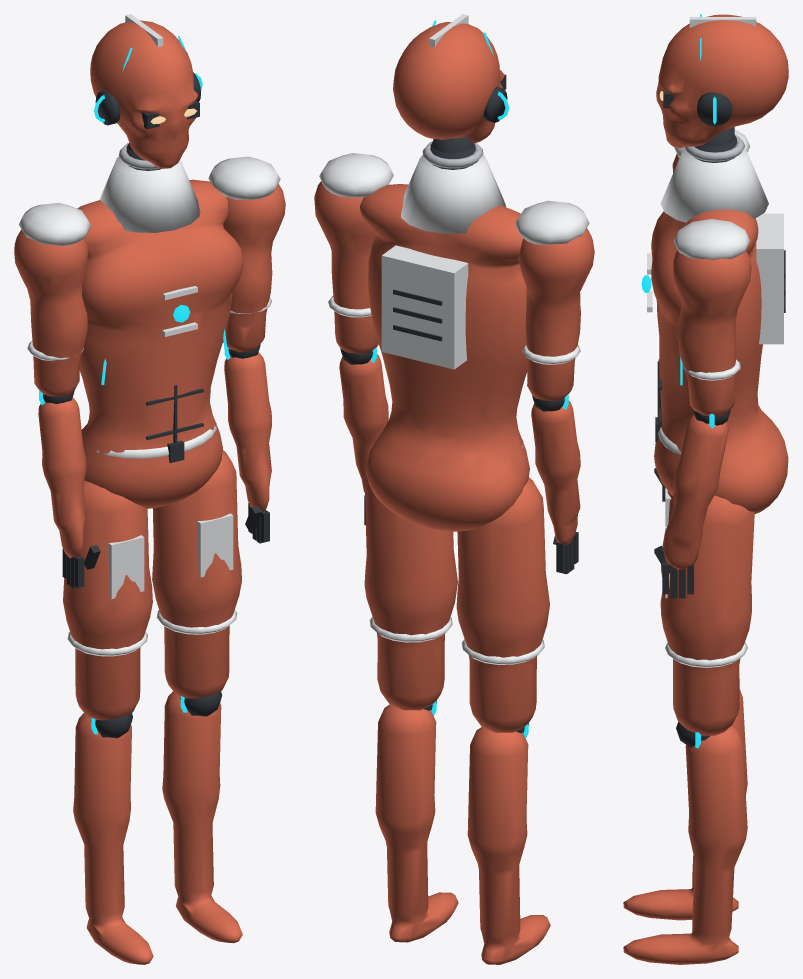
File: Char_Android_A.gltf
3 views of the same model, side by side, from view 1: azimuth 30°, elevation 25°; view 2: azimuth 150°, elevation 25°; view 3: azimuth 270°, elevation 25° (orthographic). The views are drawn at different scales.
Parts seen in each view (by area): view 1: Char_Android_A, AndroidA_Leg_L, AndroidA_Leg_R, AndroidA_Head, AndroidA_Shin_L, AndroidA_Shin_R, AndroidA_Arm_R, AndroidA_Arm_L, AndroidA_Forearm_R, AndroidA_Forearm_L; view 2: Char_Android_A, AndroidA_Leg_R, AndroidA_Leg_L, AndroidA_Shin_L, AndroidA_Shin_R, AndroidA_Head, AndroidA_Arm_R, AndroidA_Arm_L, AndroidA_Forearm_R, AndroidA_Forearm_L; view 3: Char_Android_A, AndroidA_Leg_L, AndroidA_Head, AndroidA_Shin_L, AndroidA_Arm_L, AndroidA_Forearm_L, AndroidA_Shin_R.
Part boxes in pixels (x1,y1,x2,y2): Char_Android_A: [77, 143, 243, 508]; AndroidA_Leg_L: [152, 450, 241, 698]; AndroidA_Leg_R: [63, 481, 152, 720]; AndroidA_Head: [90, 14, 202, 168]; AndroidA_Shin_L: [162, 691, 242, 943]; AndroidA_Shin_R: [73, 712, 153, 964]; AndroidA_Arm_R: [14, 202, 90, 396]; AndroidA_Arm_L: [208, 156, 285, 352]; AndroidA_Forearm_R: [38, 390, 100, 588]; AndroidA_Forearm_L: [224, 344, 271, 543]; Char_Android_A: [360, 141, 529, 531]; AndroidA_Leg_R: [456, 477, 549, 732]; AndroidA_Leg_L: [364, 476, 457, 710]; AndroidA_Shin_L: [375, 700, 458, 942]; AndroidA_Shin_R: [467, 723, 550, 964]; AndroidA_Head: [393, 14, 508, 153]; AndroidA_Arm_R: [515, 200, 594, 401]; AndroidA_Arm_L: [314, 153, 393, 354]; AndroidA_Forearm_R: [531, 394, 580, 574]; AndroidA_Forearm_L: [339, 348, 388, 525]; Char_Android_A: [641, 134, 788, 513]; AndroidA_Leg_L: [660, 493, 754, 735]; AndroidA_Head: [656, 14, 788, 148]; AndroidA_Shin_L: [623, 722, 747, 964]; AndroidA_Arm_L: [673, 219, 751, 415]; AndroidA_Forearm_L: [654, 410, 730, 598]; AndroidA_Shin_R: [623, 689, 747, 920].
Bounding box in the file's own units: 0.5544 × 1.83 × 0.2982.
